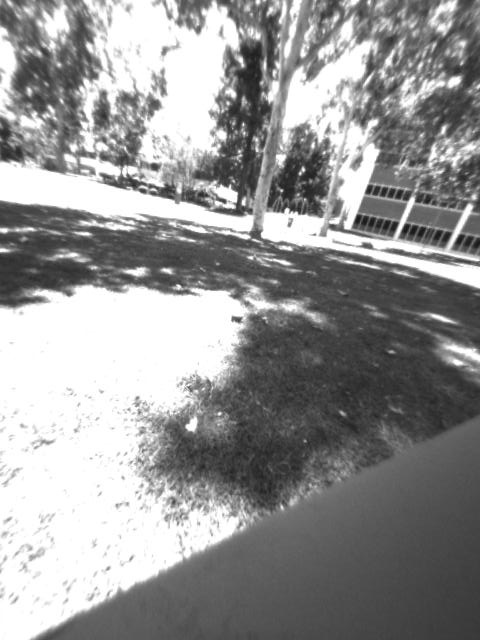dogtoy: (227, 306, 254, 332)
